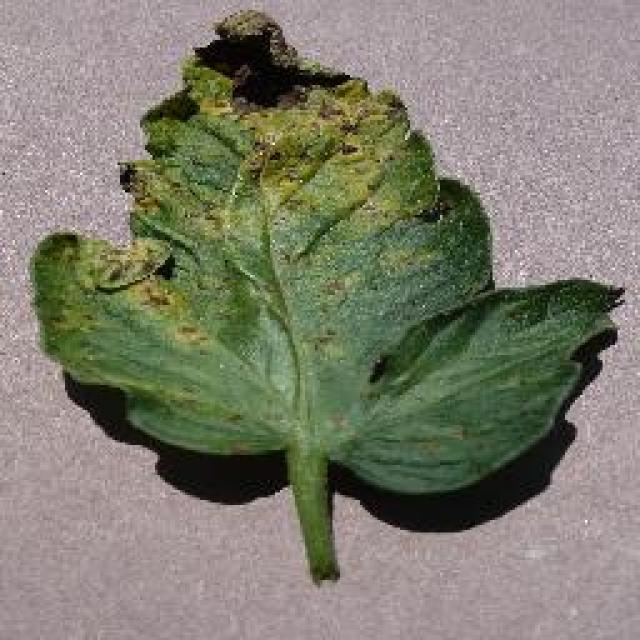Tomato___Septoria_leaf_spot: (30, 10, 612, 580)
